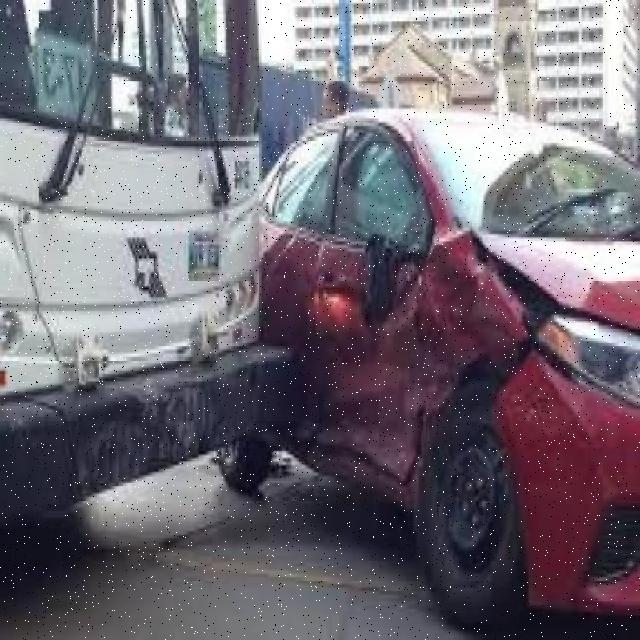damage: (282, 117, 640, 506)
